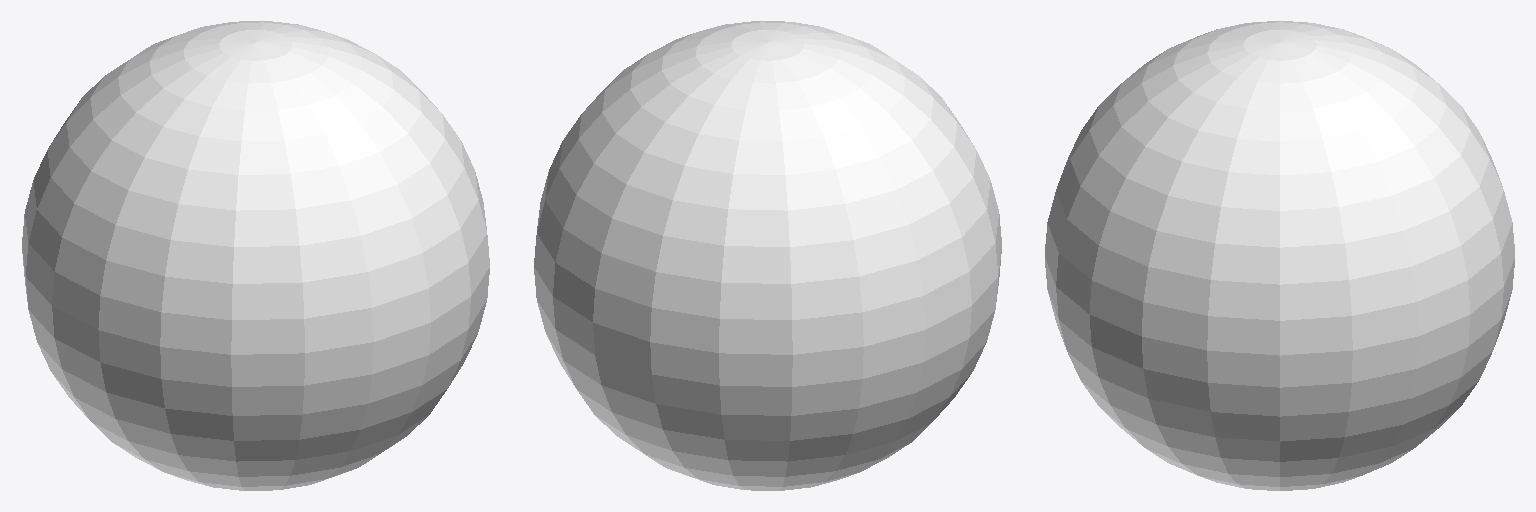
File: earth.obj
The picture shows the model from 3 angles: view 1: azimuth 30°, elevation 25°; view 2: azimuth 150°, elevation 25°; view 3: azimuth 270°, elevation 25°; orthographic projection.
Visible parts, largest first — view 1: pSphere1; view 2: pSphere1; view 3: pSphere1.
Boxes of the visible parts, <box> form: pSphere1: <box>22,21,489,490</box>; pSphere1: <box>534,21,1001,490</box>; pSphere1: <box>1045,21,1514,490</box>.
Size of the model in its own units: 1.28 by 1.28 by 1.28.